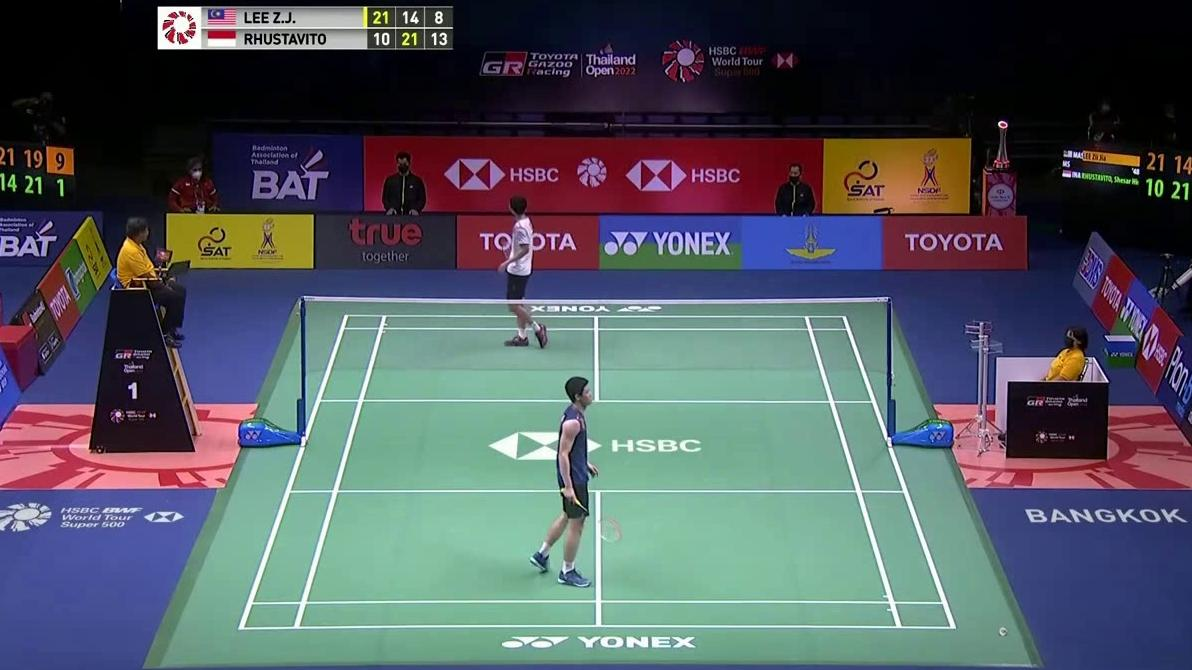racket: (559, 487, 623, 544), (502, 238, 515, 261)
shuttle: (998, 626, 1008, 636)
